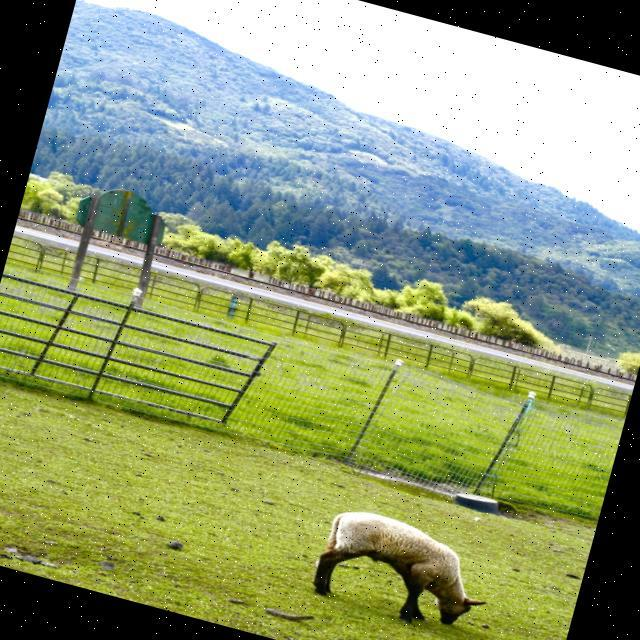sheep: (313, 510, 487, 622)
